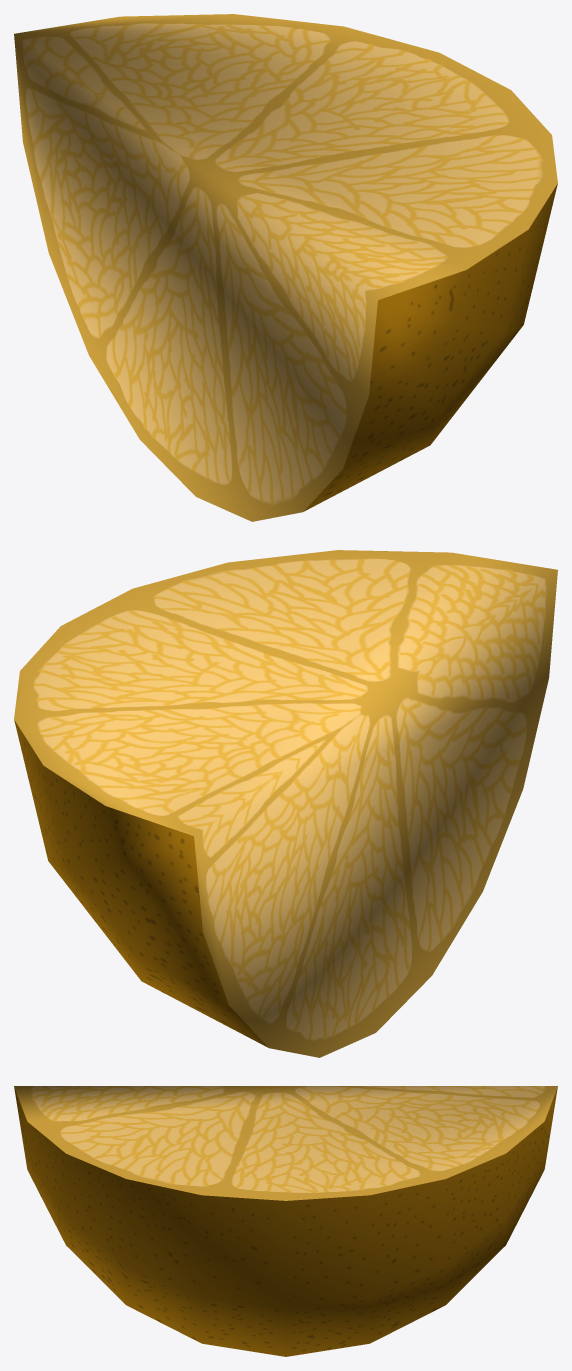
The model's file is naranja-1-4.obj.
3 views of the same model, one above another, from view 1: azimuth 30°, elevation 25°; view 2: azimuth 150°, elevation 25°; view 3: azimuth 270°, elevation 25° (orthographic). The views are drawn at different scales.
Visible parts, largest first — view 1: Naranaja-1_4_Sphere.001; view 2: Naranaja-1_4_Sphere.001; view 3: Naranaja-1_4_Sphere.001.
Boxes of the visible parts, <box> form: Naranaja-1_4_Sphere.001: <box>14,14,557,521</box>; Naranaja-1_4_Sphere.001: <box>14,550,557,1057</box>; Naranaja-1_4_Sphere.001: <box>14,1086,557,1356</box>.
Bounding box in the file's own units: 1 × 1 × 2.
Materials: 1 (1 with a texture image).
